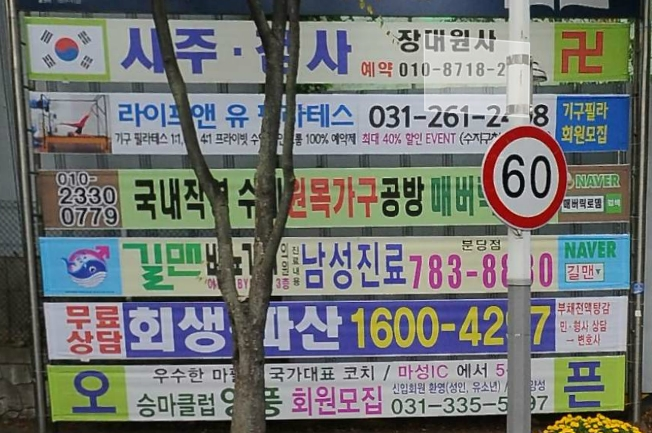banner: (27, 161, 627, 241), (15, 93, 639, 169), (13, 18, 637, 89), (49, 353, 629, 426), (43, 293, 635, 363), (32, 233, 632, 292)
